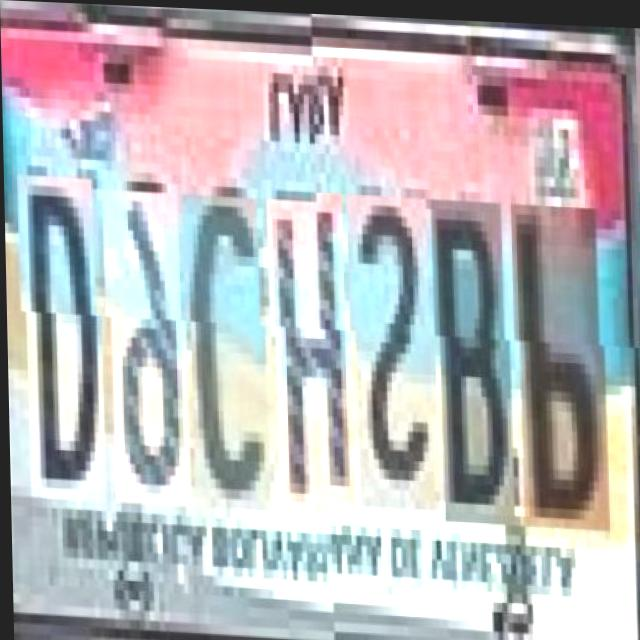9: (107, 179, 189, 496)
b: (436, 194, 513, 520)
c: (186, 182, 269, 498)
d: (22, 164, 105, 491)
h: (271, 187, 353, 503)
p: (515, 198, 608, 524)
s: (351, 190, 437, 507)
